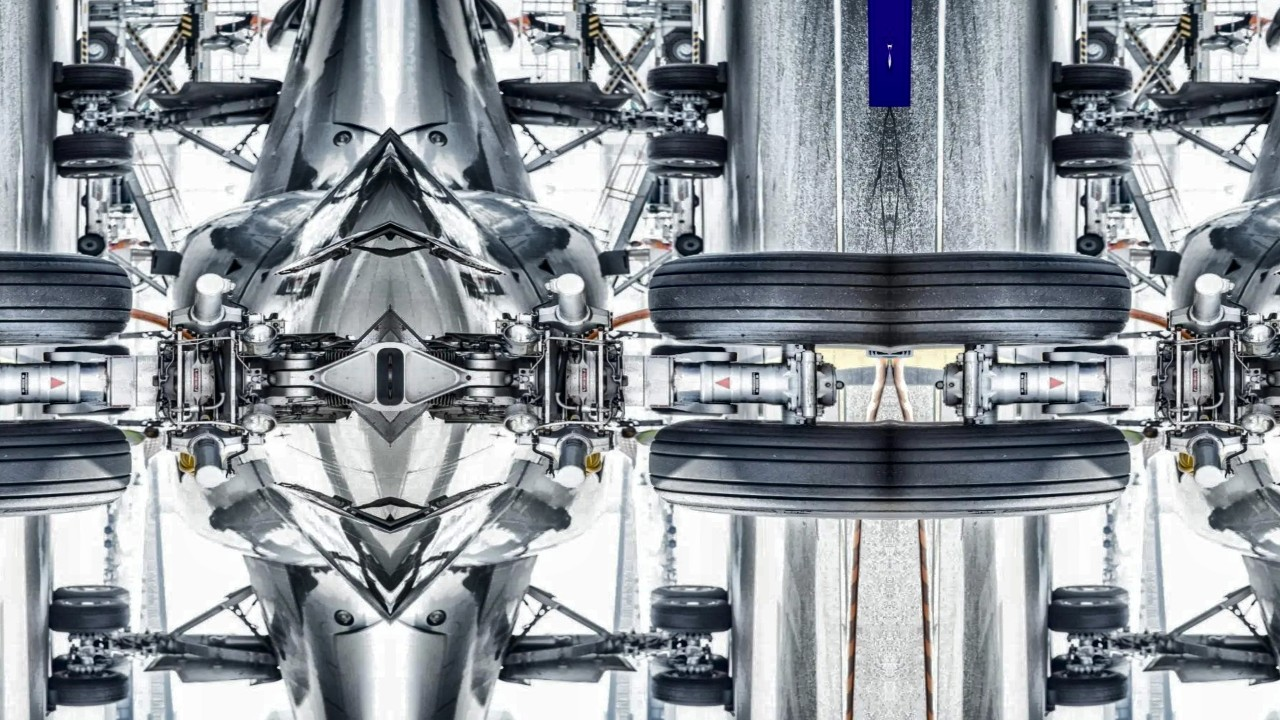wheel: (650, 241, 890, 359), (890, 241, 1130, 359), (648, 408, 890, 523), (890, 408, 1132, 523), (0, 241, 130, 359), (0, 408, 132, 523), (42, 341, 133, 418), (647, 341, 738, 418), (1042, 341, 1133, 418), (53, 129, 136, 180), (644, 129, 727, 180), (1053, 129, 1136, 180), (47, 659, 131, 709), (649, 659, 733, 709), (1047, 659, 1131, 709), (53, 60, 134, 100), (646, 60, 727, 100), (1053, 60, 1134, 100), (48, 597, 131, 636), (649, 597, 732, 636), (1048, 597, 1131, 636), (57, 87, 130, 118), (650, 87, 723, 118), (1057, 87, 1130, 118), (51, 648, 121, 678), (659, 648, 729, 678), (1051, 648, 1121, 678), (52, 581, 129, 608), (651, 581, 728, 608), (1052, 581, 1129, 608), (46, 341, 132, 363), (648, 341, 734, 363), (1046, 341, 1132, 363), (56, 159, 131, 181), (649, 159, 724, 181), (1056, 159, 1131, 181), (51, 402, 130, 419), (650, 402, 729, 419), (1051, 402, 1130, 419), (84, 29, 117, 66), (663, 29, 696, 66), (1084, 29, 1117, 66), (76, 232, 106, 257), (674, 232, 704, 257), (1076, 232, 1106, 257), (81, 194, 89, 207), (691, 194, 699, 207), (1081, 194, 1089, 207)
